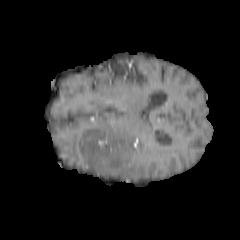glioma: (77, 128, 152, 171)
